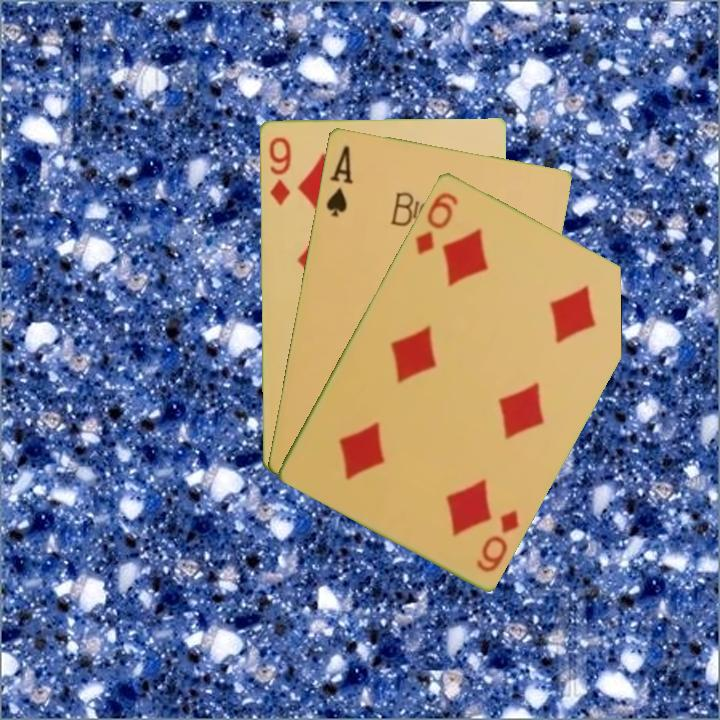6d: (472, 505, 522, 575), (411, 188, 461, 257)
9d: (265, 133, 293, 209)
As: (322, 141, 356, 219)
